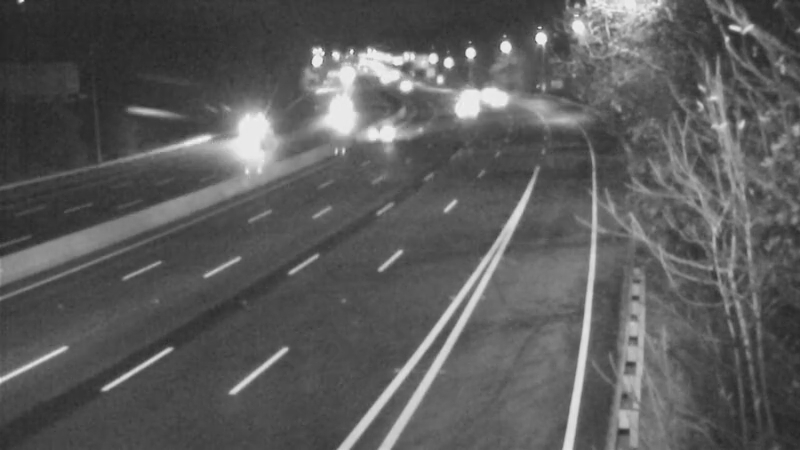vehicle: (380, 61, 430, 111), (476, 76, 526, 126), (437, 80, 487, 130), (357, 110, 407, 160), (224, 110, 274, 160), (310, 90, 360, 140)
